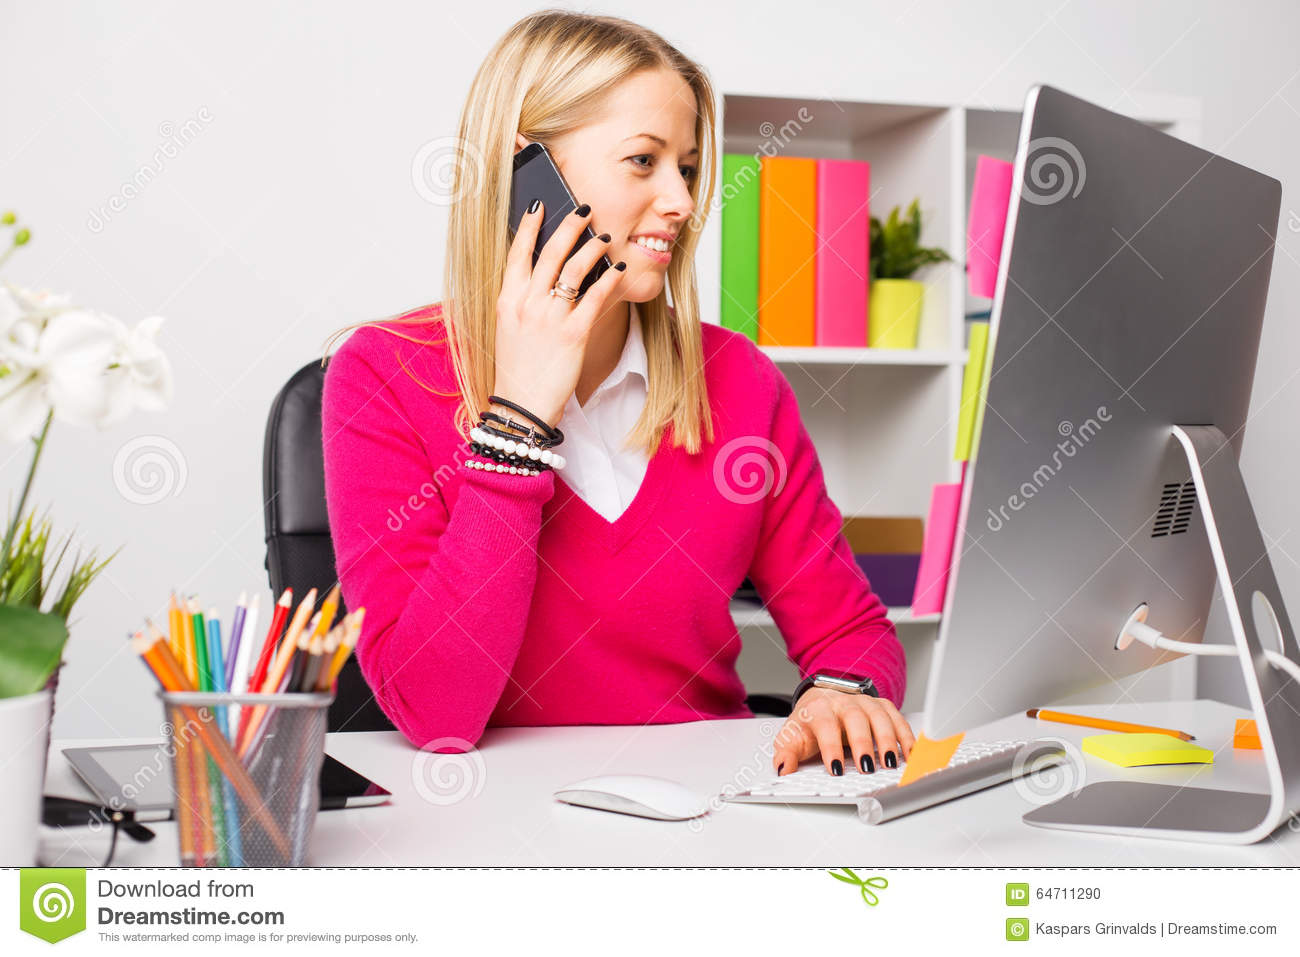phone: (505, 145, 611, 309)
talk: (491, 128, 703, 437)
